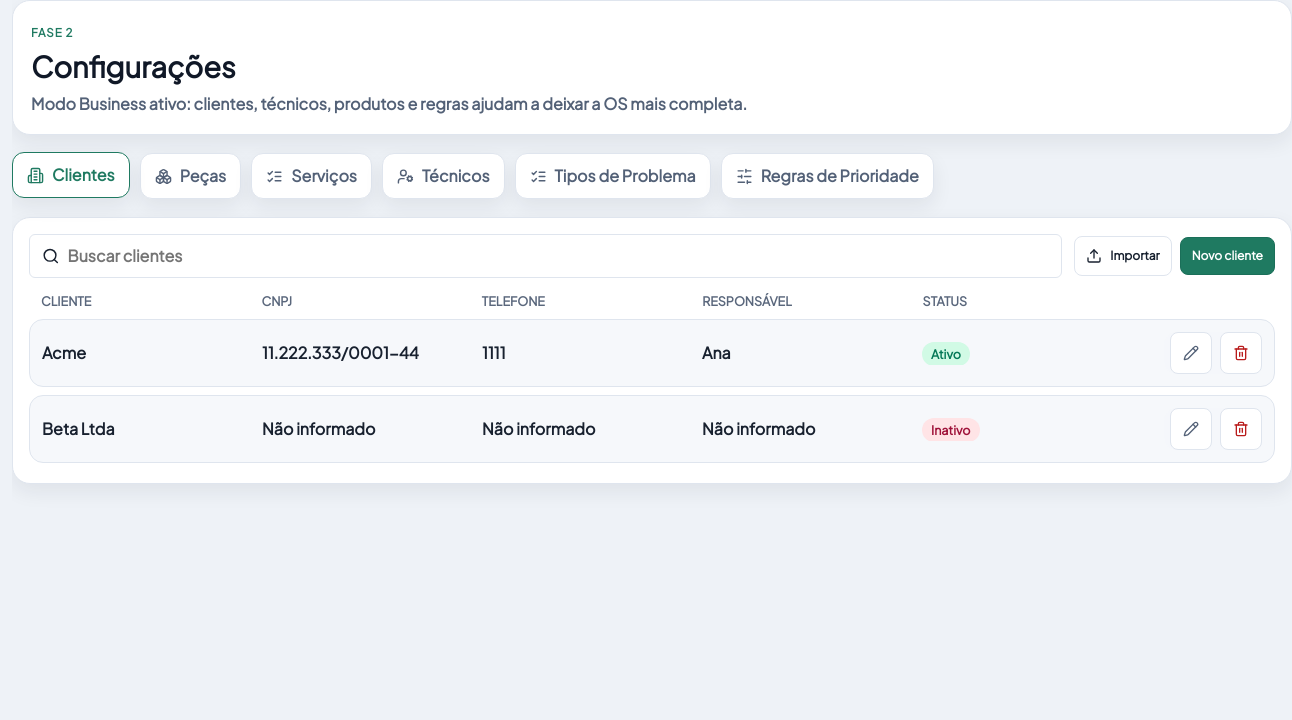
Test: SettingsView - listagem e navegacao › modo business mostra valor em reais e esconde o patrimonio
The image size is (1292, 720).
Check: the text "Acme" is shown, box top-left (42, 342), bottom-right (86, 363)
Click the button "Peças" at (190, 176), box top-left (140, 153), bottom-right (241, 199)
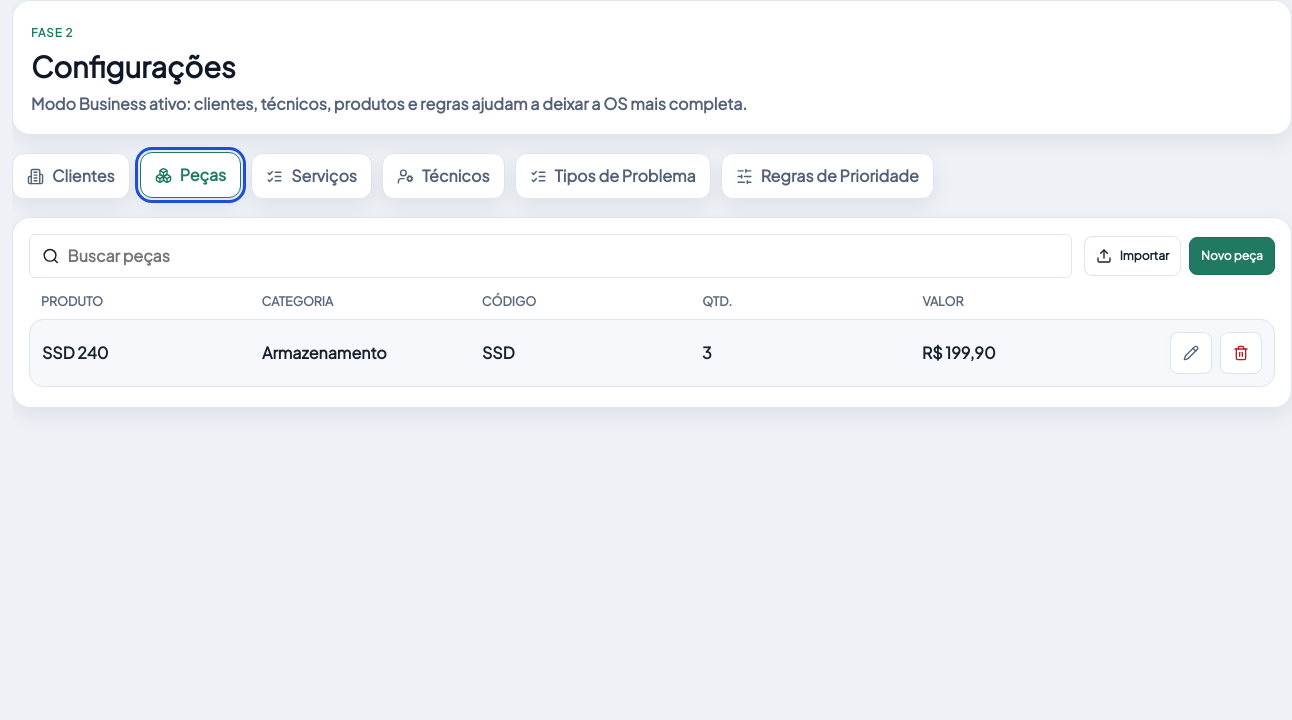
Check: the text "SSD 240" is shown, box top-left (42, 342), bottom-right (108, 363)
Check: the text "R$ 199,90" is shown, box top-left (922, 342), bottom-right (996, 363)
